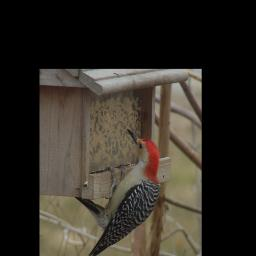Woodpecker: (80, 128, 164, 253)
